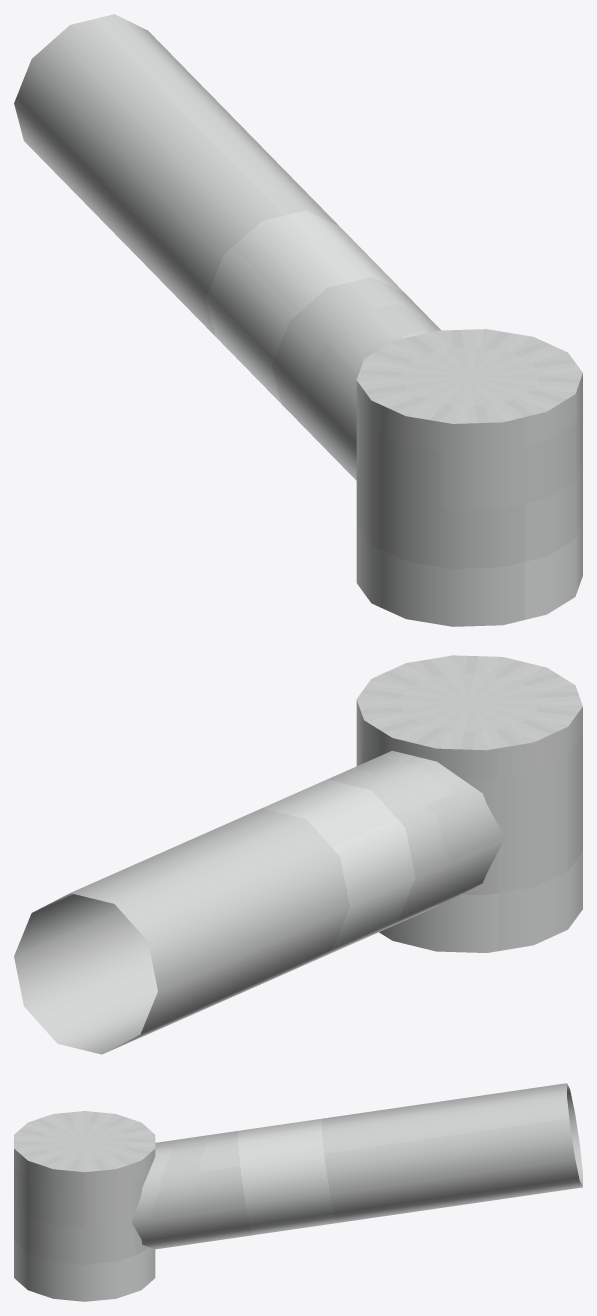
Rendered from trusssignalarm_sloped12_c0_pedestal.obj.
The picture shows the model from 3 angles, top to bottom: view 1: azimuth 30°, elevation 25°; view 2: azimuth 150°, elevation 25°; view 3: azimuth 270°, elevation 25°; orthographic projection. The views are drawn at different scales.
Visible parts, largest first — view 1: trusssignalarm_sloped12_c0_pedestal; view 2: trusssignalarm_sloped12_c0_pedestal; view 3: trusssignalarm_sloped12_c0_pedestal.
Boxes of the visible parts, x1,y1,x2,y2 form: trusssignalarm_sloped12_c0_pedestal: (14, 14, 582, 626); trusssignalarm_sloped12_c0_pedestal: (14, 655, 582, 1054); trusssignalarm_sloped12_c0_pedestal: (14, 1083, 582, 1301).
Bounding box in the file's own units: 0.4438 × 0.6114 × 1.74.
